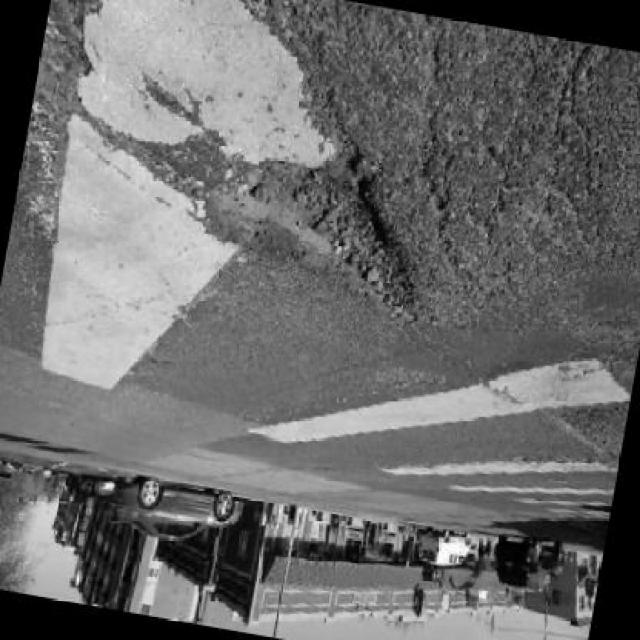pothole: (171, 123, 447, 335)
